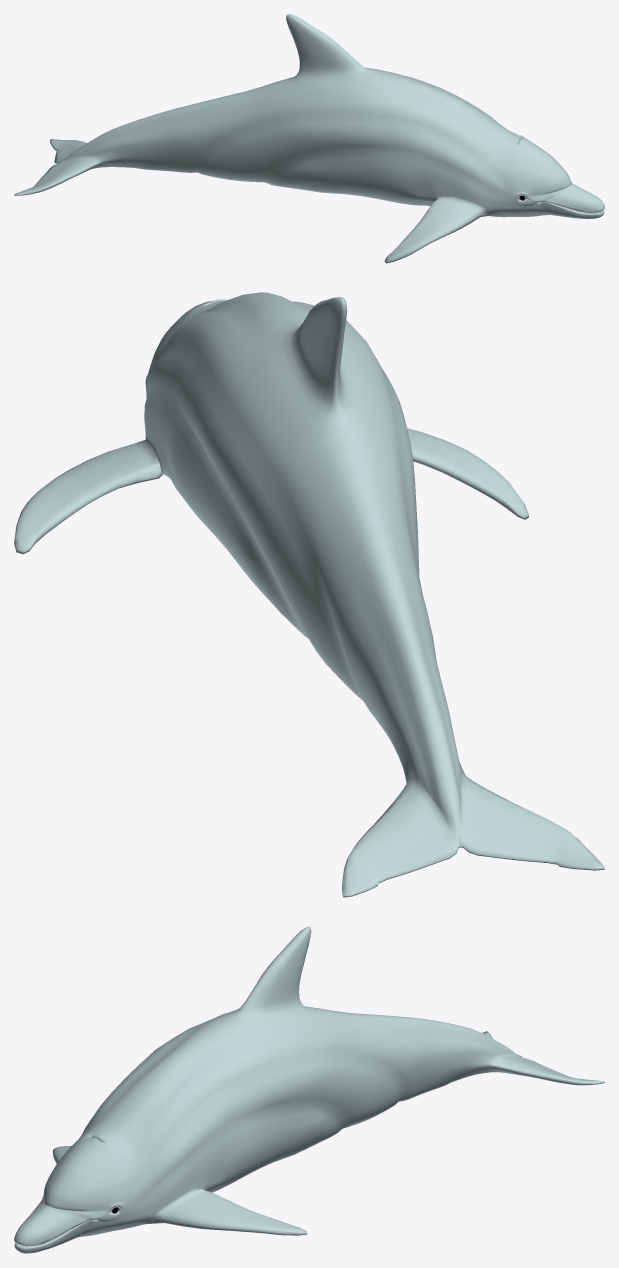
Rendered from dolphin_000018.obj.
3 renders of one model, top to bottom at view 1: azimuth 30°, elevation 25°; view 2: azimuth 150°, elevation 25°; view 3: azimuth 270°, elevation 25°, orthographic. The views are drawn at different scales.
Visible parts, largest first — view 1: Dolphin; view 2: Dolphin; view 3: Dolphin.
Part boxes in pixels (x1,y1,x2,y2): Dolphin: [14, 14, 604, 263]; Dolphin: [14, 292, 604, 897]; Dolphin: [14, 926, 604, 1253].
Size of the model in its own units: 5.52 by 2.41 by 5.6.
